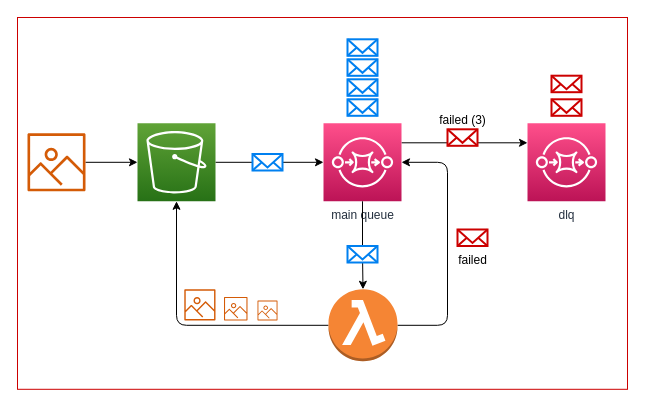
This 645x407 diagram has some shape labels left out. Here are the shapes that lost their labels. From the top down, the centre of each, then its label:
At (x=176, y=161): "s3 bucket".
At (x=363, y=324): "thumbnail-generator".
